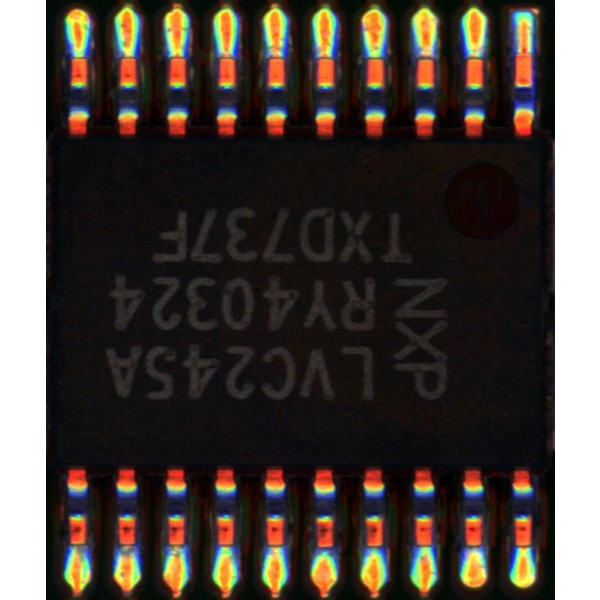Bad_podu: (271, 44, 281, 69), (319, 45, 329, 69), (518, 42, 528, 61)
